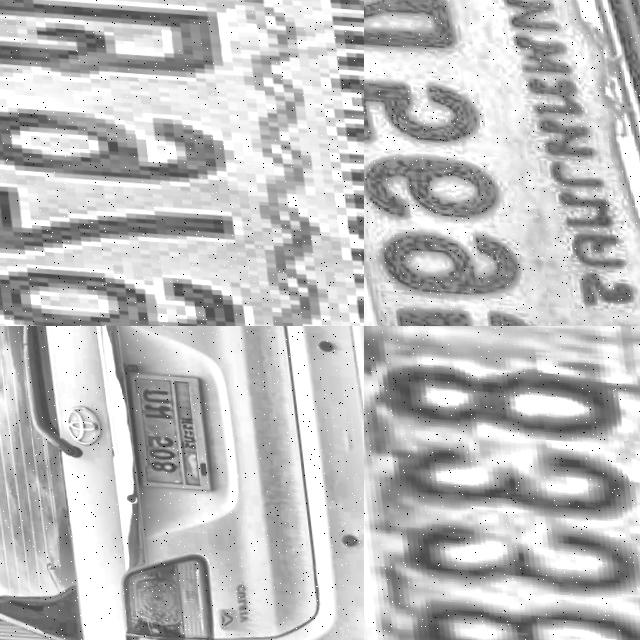license-plate: (0, 0, 364, 326), (364, 0, 640, 326), (364, 326, 640, 640), (109, 364, 205, 487)
